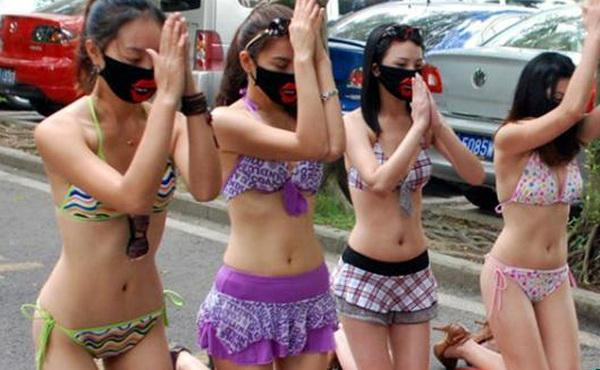OK: (109, 41, 171, 103), (255, 48, 314, 107), (384, 51, 429, 96)
